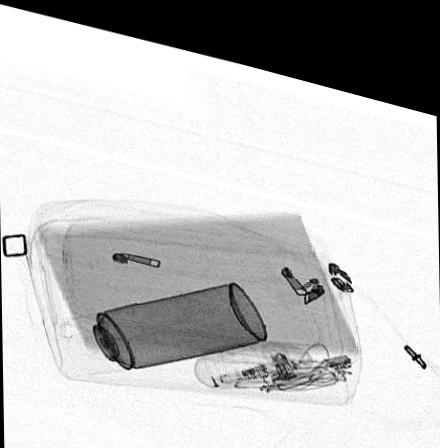Sprayer: (59, 271, 266, 371)
